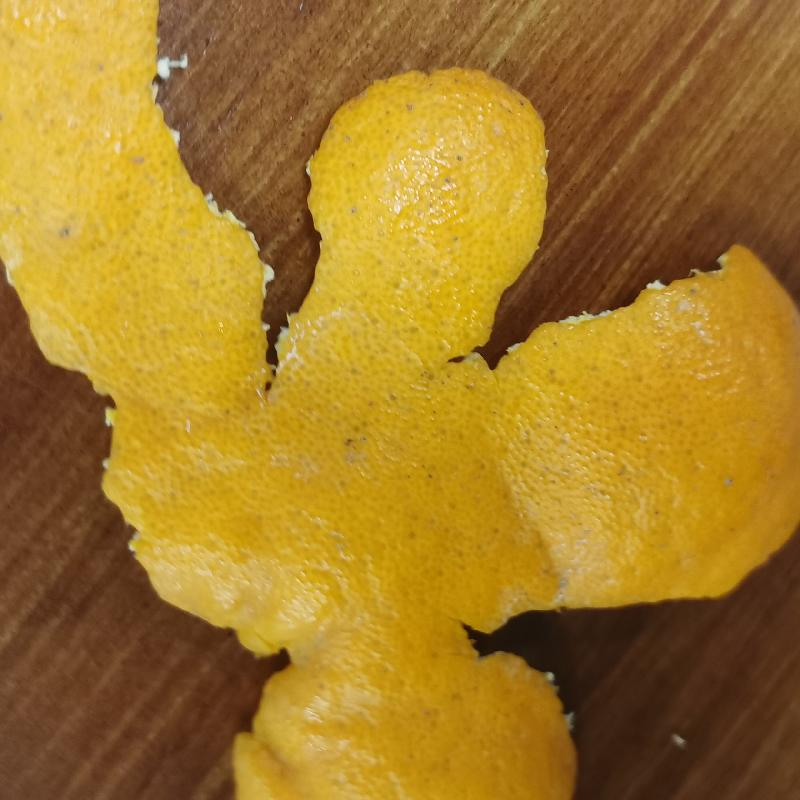orange: (10, 2, 796, 799)
